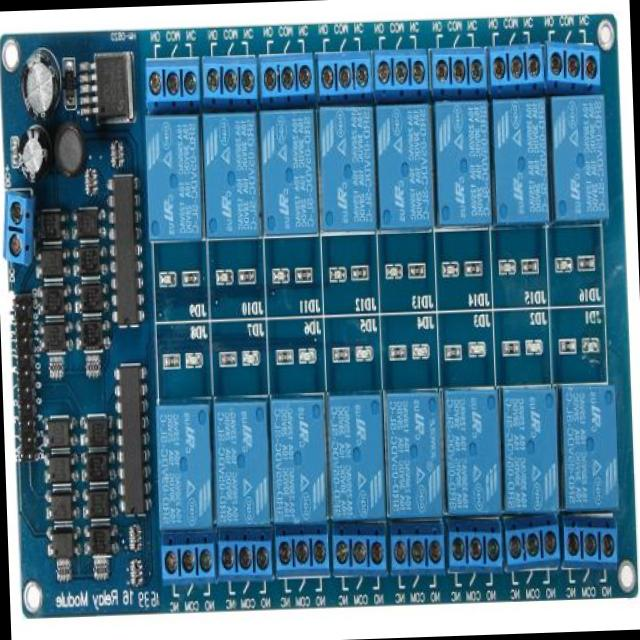IC: (112, 360, 152, 517), (109, 174, 141, 328), (80, 56, 133, 126), (38, 204, 66, 242), (38, 246, 66, 284), (80, 320, 106, 356), (86, 484, 111, 521), (46, 450, 73, 484), (86, 414, 110, 451), (78, 278, 103, 313), (44, 418, 73, 448), (78, 204, 102, 240), (86, 448, 111, 481), (41, 319, 65, 353), (40, 284, 64, 318), (50, 488, 74, 522), (48, 530, 75, 560), (78, 248, 105, 277), (86, 526, 112, 555)
LED: (158, 272, 176, 288), (470, 342, 485, 358), (413, 343, 429, 358), (355, 346, 370, 362), (243, 351, 259, 365), (555, 260, 570, 274), (582, 338, 597, 352), (385, 265, 400, 279), (441, 262, 456, 276), (217, 271, 232, 285), (500, 260, 514, 274), (298, 349, 312, 363), (330, 270, 346, 282), (186, 355, 202, 366), (526, 341, 541, 352)
capacitor: (20, 48, 60, 124), (17, 128, 52, 184), (54, 120, 86, 180), (10, 138, 18, 168)
connector: (8, 294, 38, 462), (426, 38, 488, 96), (328, 530, 390, 587), (502, 520, 561, 578), (388, 524, 448, 580), (274, 530, 330, 588), (315, 50, 373, 104), (486, 38, 542, 93), (374, 44, 430, 98), (0, 182, 36, 265), (447, 521, 502, 575), (258, 51, 316, 102), (562, 520, 622, 569), (200, 50, 258, 100), (143, 54, 201, 104), (543, 41, 603, 89), (212, 534, 273, 580), (163, 538, 214, 590)
diode: (64, 58, 74, 106)
resistor: (45, 357, 66, 379), (84, 165, 97, 196), (130, 556, 142, 586), (83, 360, 101, 378), (182, 270, 199, 288), (130, 522, 140, 550), (462, 262, 482, 276), (54, 565, 72, 580), (92, 563, 110, 577), (560, 338, 576, 353), (351, 267, 366, 282), (238, 268, 252, 284), (294, 268, 310, 282), (520, 258, 536, 272), (112, 140, 120, 167), (220, 351, 234, 365), (276, 352, 291, 364), (164, 356, 178, 368), (582, 257, 594, 271), (502, 342, 516, 354), (410, 266, 424, 278), (391, 346, 403, 360), (443, 347, 459, 357), (332, 349, 347, 358)
